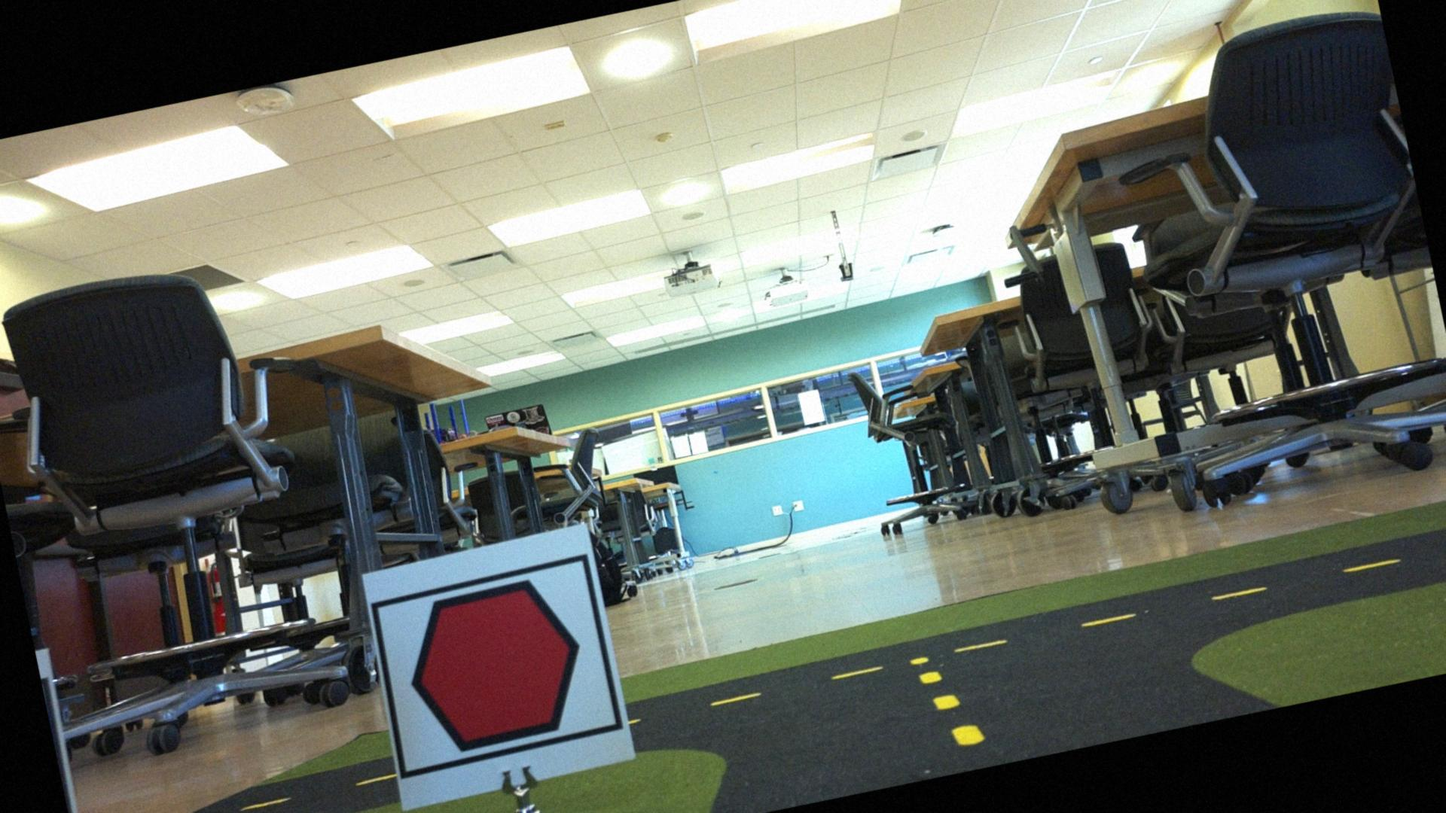stop: (381, 563, 610, 769)
yellowline: (912, 644, 985, 757)
